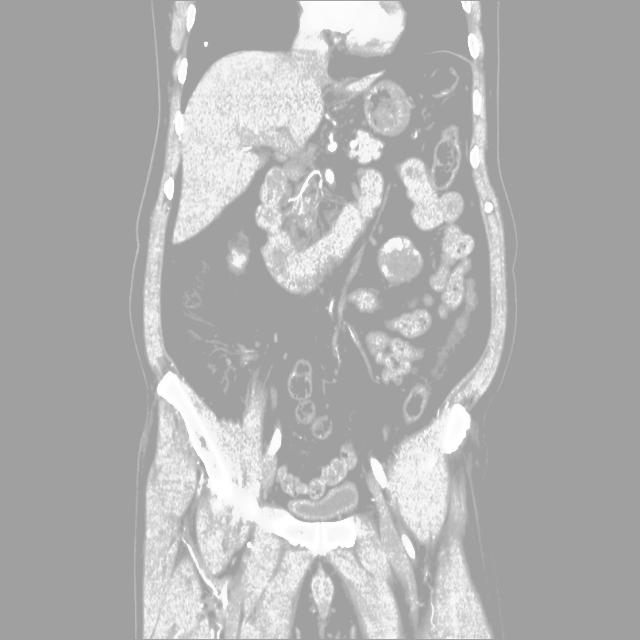TUMOR: (375, 178, 467, 345)
